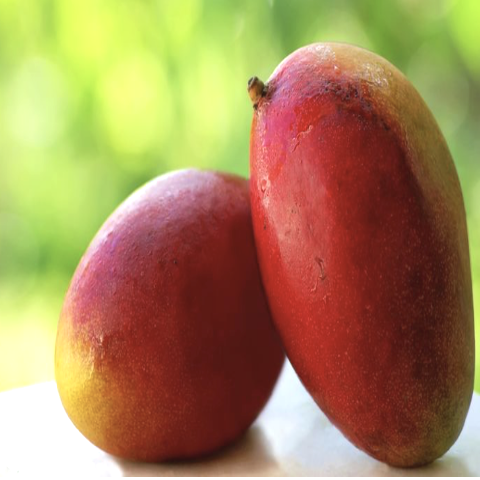mango: (221, 36, 479, 479), (31, 164, 319, 474)
